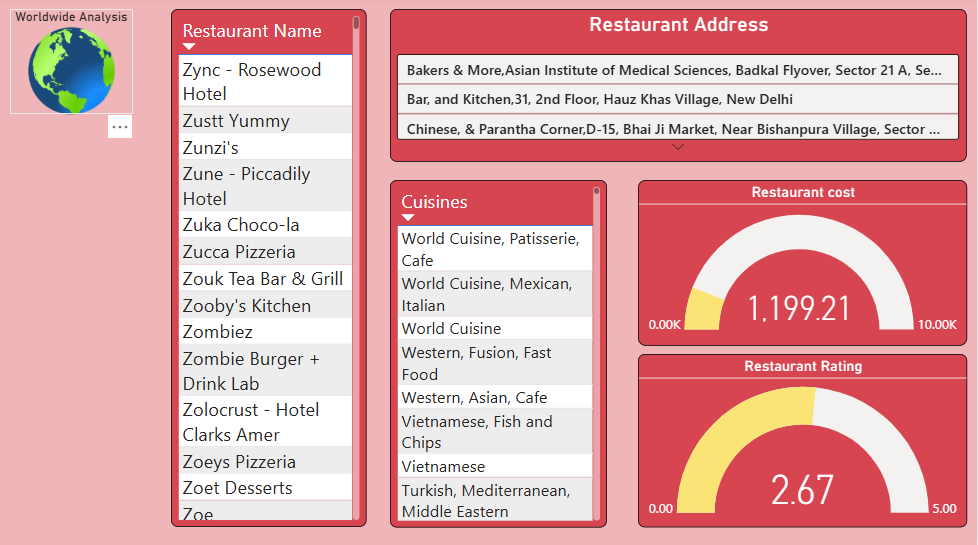

The page's visual inventory and layout, read from the dashboard file:
{"tool":"powerbi","page":{"name":"Restaurant Analysis","canvas":[1280,720],"ordinal":1},"visuals":[{"type":"tableEx","fields":{"Values":["Append1.Restaurant Name"]},"box":[225,15.6,256.2,678.1],"z":0},{"type":"gauge","title":"Restaurant Rating","fields":{"Y":["KPIs.Average_Rating"]},"box":[835.9,467.2,431.2,226.6],"z":1000},{"type":"gauge","title":"Restaurant cost","fields":{"Y":["KPIs.Average_cost"]},"box":[835.9,239.1,431.2,217.2],"z":2000},{"type":"cardVisual","title":"Restaurant Address","fields":{"Rows":["Append1.Restaurant Address"]},"box":[512.5,15.6,754.7,200],"z":3000},{"type":"tableEx","fields":{"Values":["Cuisines.Cuisines"]},"box":[512.5,239.1,284.4,454.7],"z":4000},{"type":"image","title":"Worldwide Analysis","box":[14.1,15.6,160.9,137.5],"z":5000}]}

Visuals, with their boxes in screenshot pixels (x1, y1, x2, y2), scaled from the page's 1280x720 canvas onto the 978x545 screenshot:
tableEx - Append1.Restaurant Name: <box>172,12,368,525</box>
"Restaurant Rating" gauge: <box>639,354,968,525</box>
"Restaurant cost" gauge: <box>639,181,968,345</box>
"Restaurant Address" cardVisual: <box>392,12,968,163</box>
tableEx - Cuisines.Cuisines: <box>392,181,609,525</box>
"Worldwide Analysis" image: <box>11,12,134,116</box>
